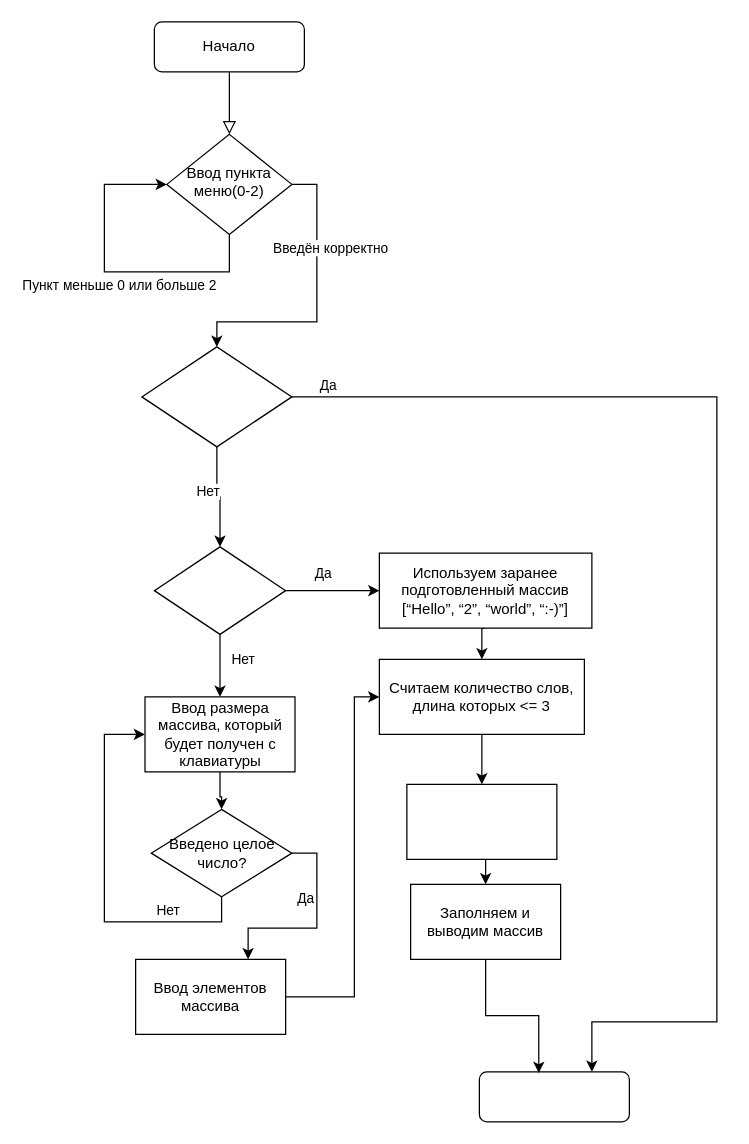
Some shapes in this 749 by 1144 pixel diagram are drawn without their labels. Each missing label, with the centre of its shape:
"Выбран 1?" belongs at (219,590).
"Выбран пункт 0?" belongs at (216,396).
"Конец" belongs at (553,1096).
"Создаём новый массив на основании счётчика" belongs at (481,821).
